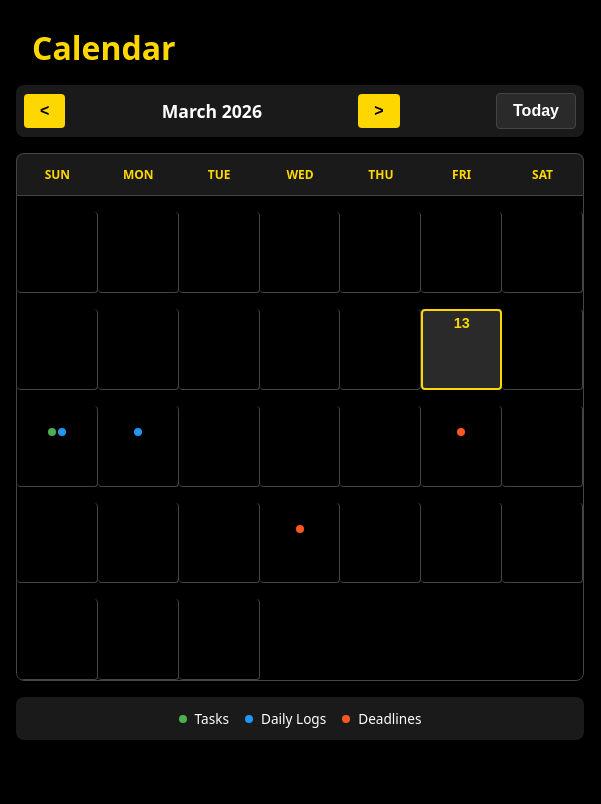
Test: CalendarView › selects a day when clicked
What coordinates should you click on to do the following:
click the button "15"
I would click on:
 (57, 446)
Its box is [17,406,98,487].
(page scrolled)
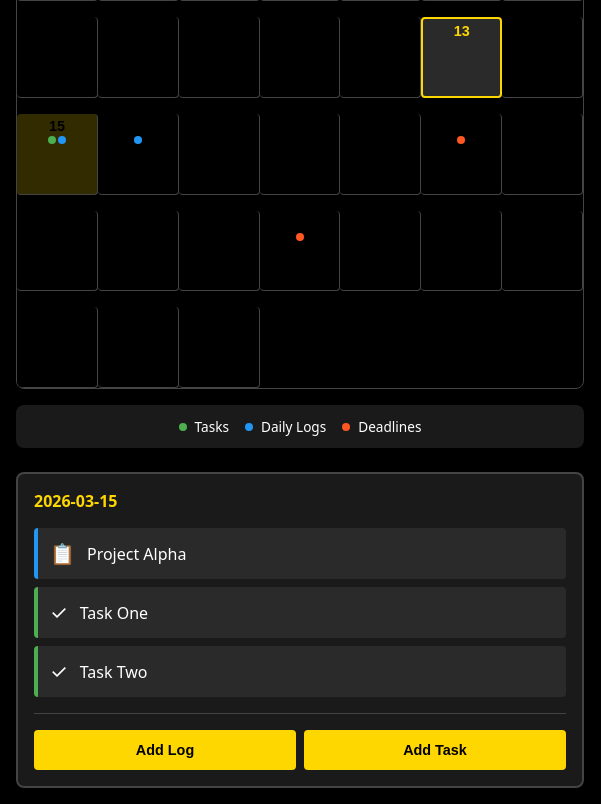
expect the button "Add Log" is shown: met, box [34,730,296,770]
expect the button "Add Task" is shown: met, box [304,730,566,770]
